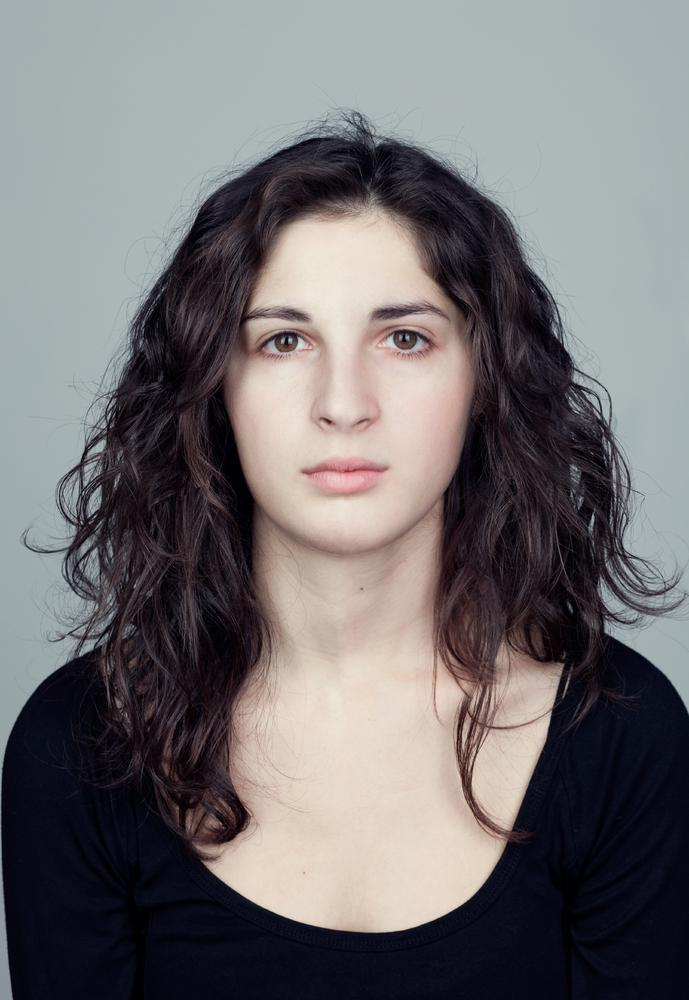Sober: (229, 228, 465, 546)
